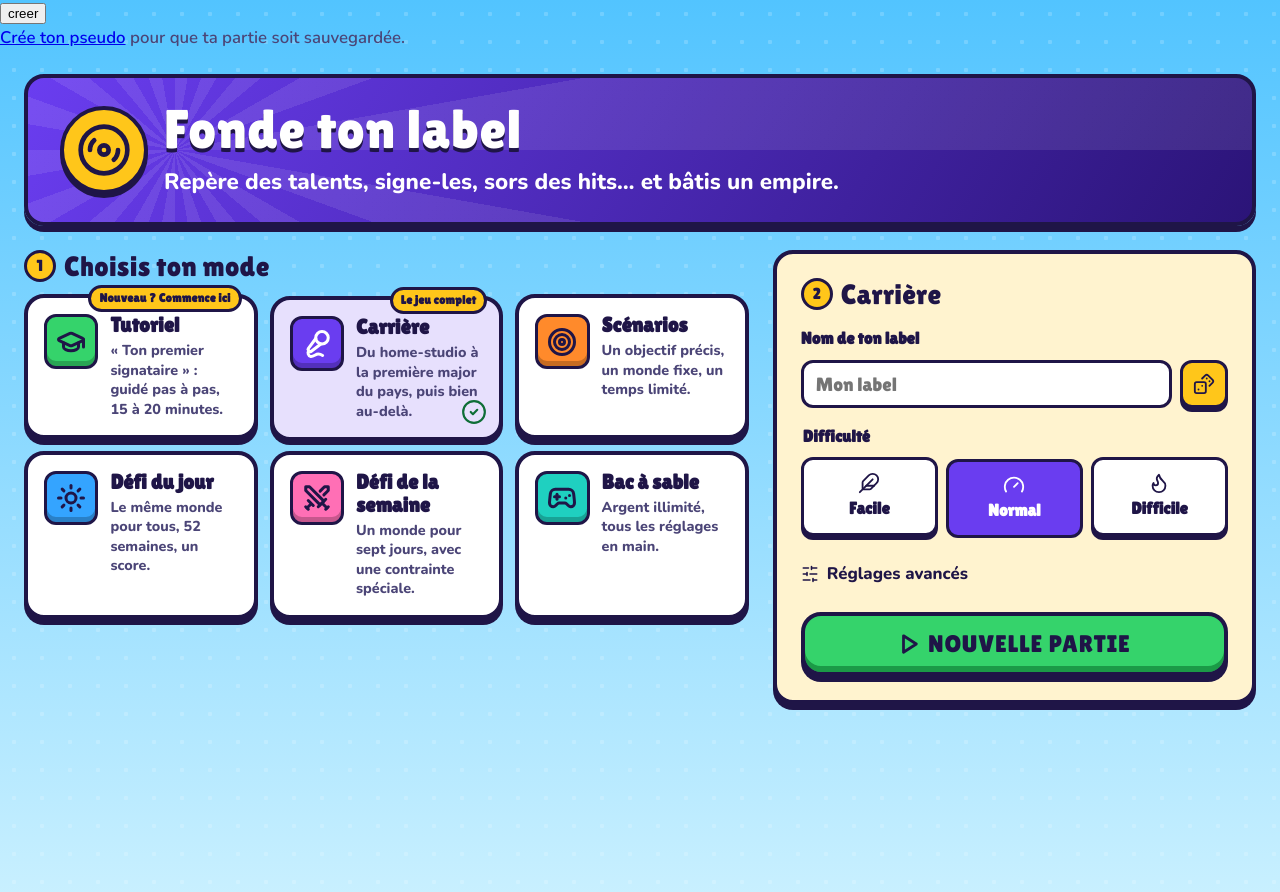
Test: sauvegarde de la partie › prévient quand il n’y a pas de compte
Expected: the text "Crée ton pseudo pour que ta partie soit sauvegardée." is shown, [0,26,405,49]
Click the button "Nouvelle partie" at (1014, 644), box [801,612,1228,676]
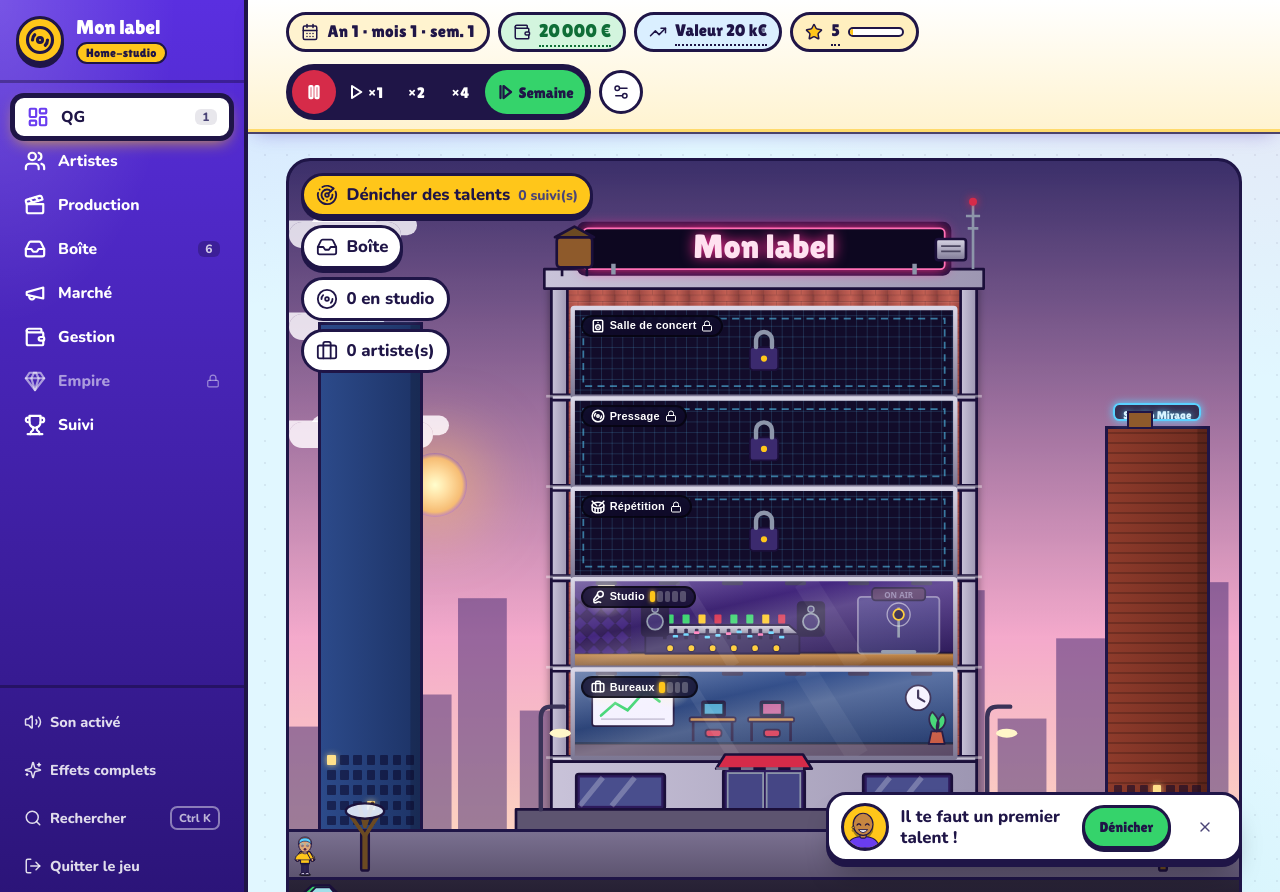
Now the navigation bar named "Écrans du jeu" is shown, box [12,95,232,447]
Now the text "Pas de compte : cette partie ne sera pas sauvegardée." is shown, box [0,26,409,49]
